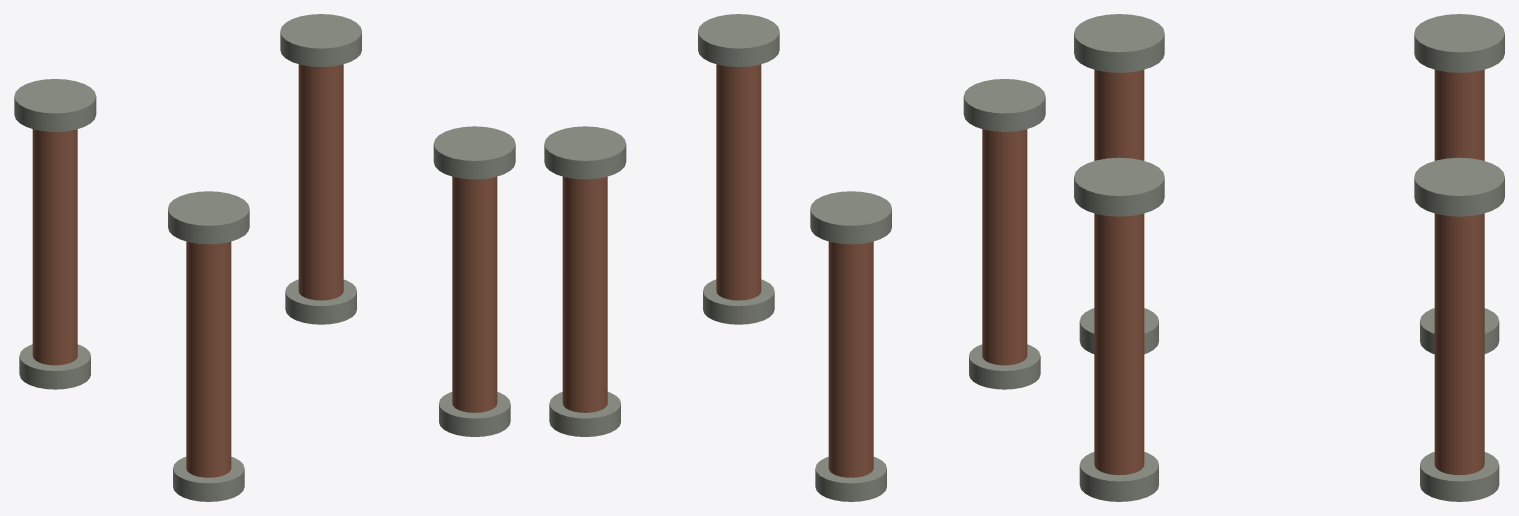
The model's file is undercity-sewers-and-thieves-den-cistern-columns-8d5e24b7__25040.glb.
The picture shows the model from 3 angles, left to right: view 1: azimuth 30°, elevation 25°; view 2: azimuth 150°, elevation 25°; view 3: azimuth 270°, elevation 25°; orthographic projection. The views are drawn at different scales.
Parts seen in each view (by area): view 1: cistern-columns; view 2: cistern-columns; view 3: cistern-columns.
Boxes of the visible parts, left/top/right/bottom form: cistern-columns: left=14, top=14, right=515, bottom=501; cistern-columns: left=544, top=14, right=1045, bottom=501; cistern-columns: left=1074, top=14, right=1504, bottom=501.
Size of the model in its own units: 3.8 by 3 by 3.8.
